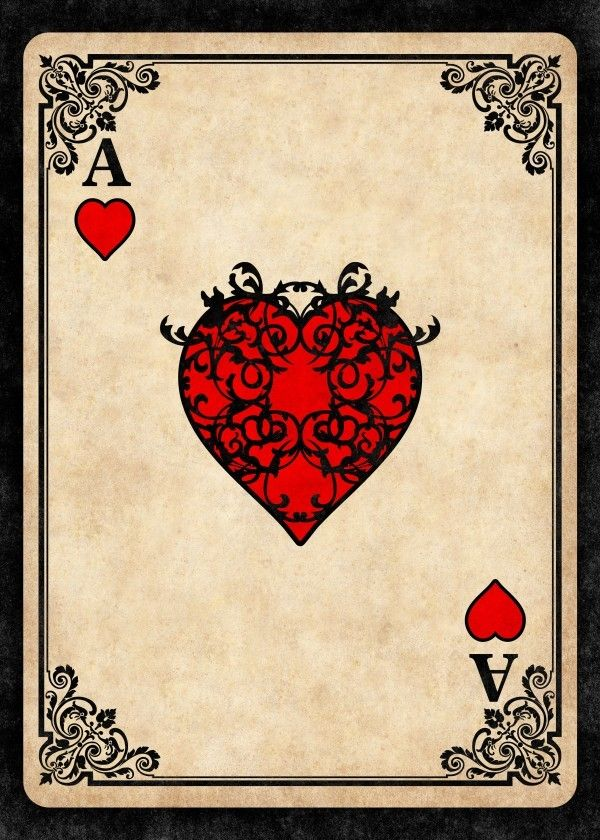ace of hearts: (23, 30, 575, 812)
